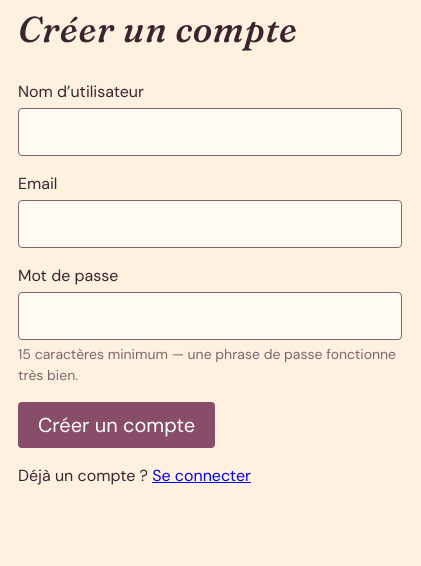
it: RegisterPage › valide la saisie avant envoi et ne déclenche pas de requête
Type "ab" into the field labelled "Nom d’utilisateur" at (210, 132), box [18,108,402,156]
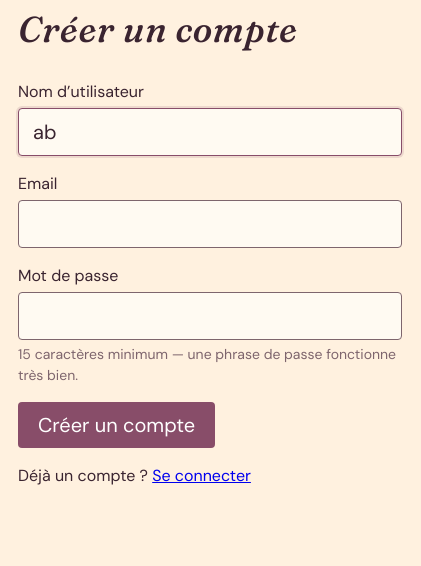
Click the button "Créer un compte" at (117, 425), box [18,402,215,448]
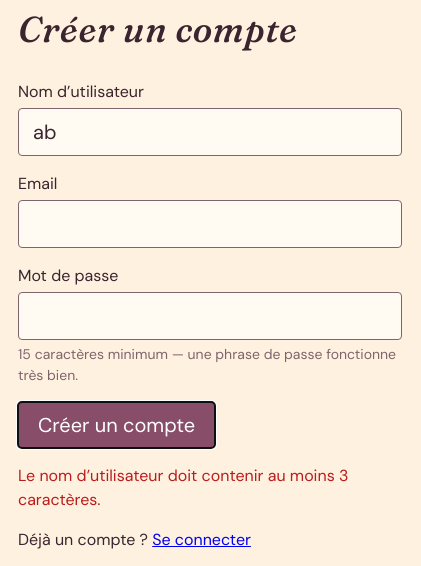
Expected: the message "Le nom d’utilisateur doit contenir au moins 3 caractères." is shown, [18,464,402,512]
